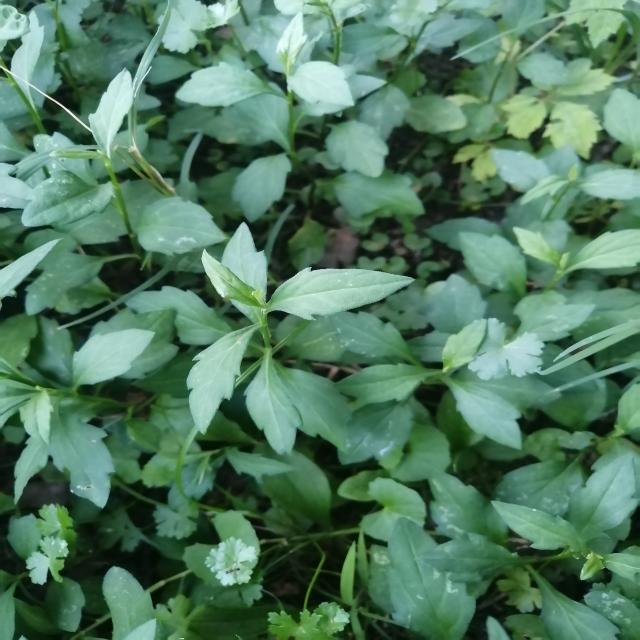Indian aster: (134, 235, 420, 463)
